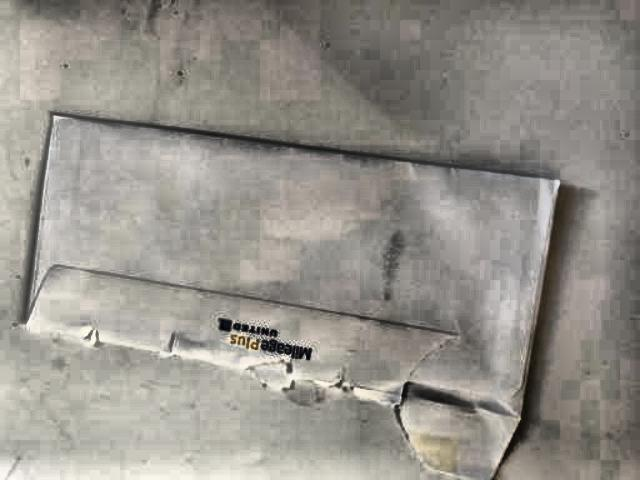Paper: (26, 114, 590, 480)
